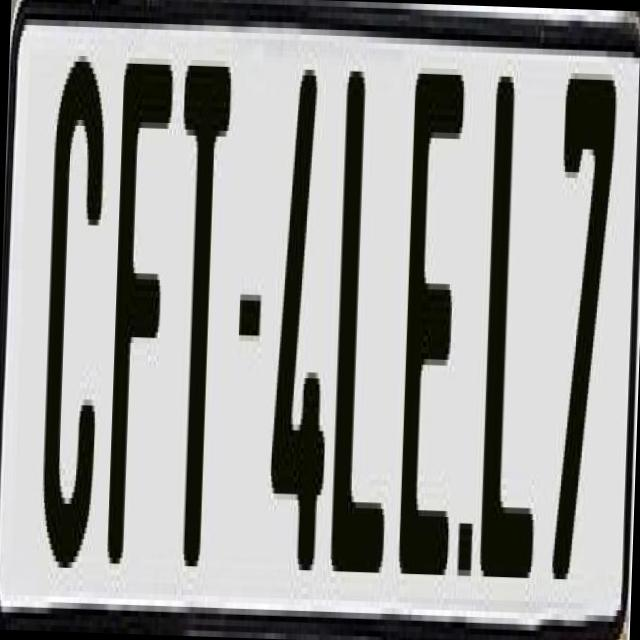4: (262, 50, 340, 582)
7: (545, 78, 619, 592)
C: (37, 55, 111, 598)
E: (396, 55, 468, 581)
F: (106, 63, 177, 571)
L: (478, 69, 554, 602), (328, 71, 402, 578)
T: (164, 59, 237, 590)
